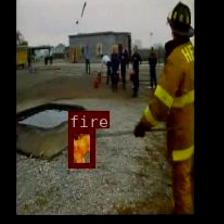fire: (68, 128, 94, 168)
